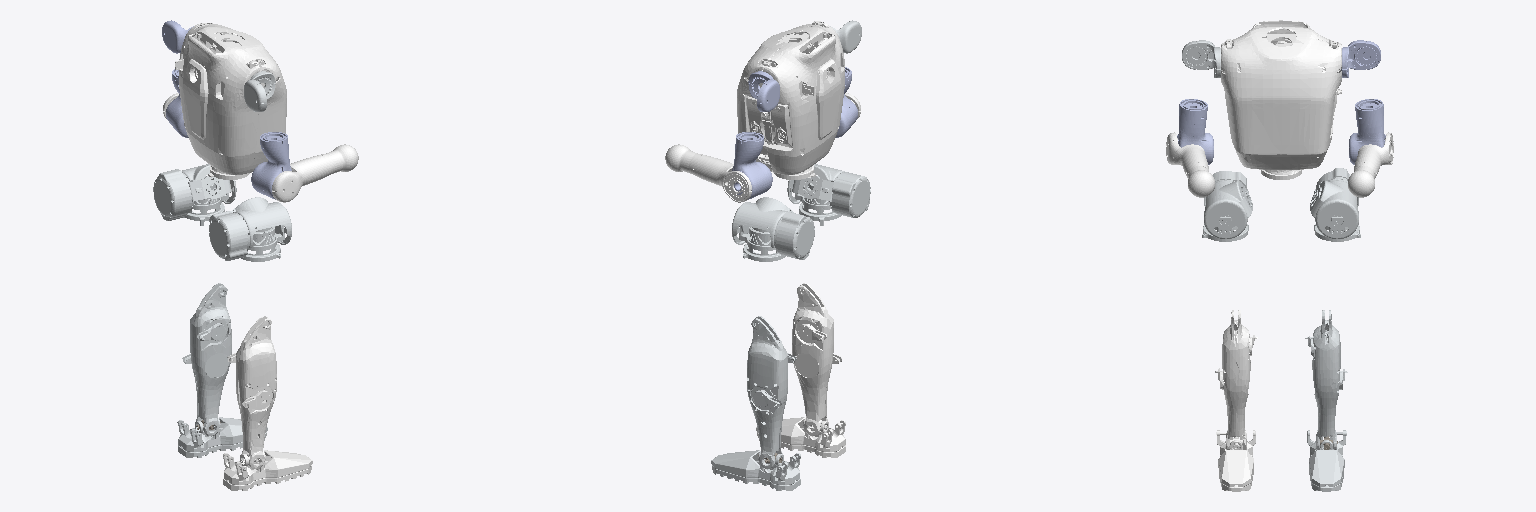
--- Render facts (derived) ---
The picture shows the robot from 3 angles, left to right: view 1: azimuth 30°, elevation 25°; view 2: azimuth 150°, elevation 25°; view 3: azimuth 270°, elevation 25°; orthographic projection.
Model miniloong_v3 with 23 links and 22 joints (12 revolute, 10 fixed), rooted at base_link, posed all joints at 0.
Visible links, largest first — view 1: link_waist_yaw, link_left_knee, link_right_knee, link_right_hip_pitch, link_left_hip_pitch, link_right_ankle_roll, link_right_elbow, link_left_ankle_roll, link_right_shoulder_yaw, link_right_shoulder_pitch, link_right_hip_roll, link_left_hip_roll (+2 smaller); view 2: link_waist_yaw, link_right_knee, link_left_knee, link_left_hip_pitch, link_right_hip_pitch, link_left_ankle_roll, link_left_elbow, link_right_ankle_roll, link_left_shoulder_yaw, link_left_hip_roll, link_left_shoulder_pitch, link_right_hip_roll (+2 smaller); view 3: link_waist_yaw, link_left_knee, link_right_knee, link_left_hip_pitch, link_right_hip_pitch, link_right_elbow, link_left_ankle_roll, link_right_ankle_roll, link_left_elbow, link_left_shoulder_yaw, link_right_shoulder_yaw, link_left_shoulder_pitch (+1 smaller).
Link boxes in pixels (bbox=[...]): link_waist_yaw: bbox=[175, 23, 286, 179]; link_left_knee: bbox=[177, 283, 231, 435]; link_right_knee: bbox=[227, 316, 276, 470]; link_right_hip_pitch: bbox=[209, 197, 291, 260]; link_left_hip_pitch: bbox=[153, 164, 236, 220]; link_right_ankle_roll: bbox=[223, 450, 312, 490]; link_right_elbow: bbox=[272, 144, 358, 202]; link_left_ankle_roll: bbox=[178, 417, 267, 457]; link_right_shoulder_yaw: bbox=[251, 132, 291, 199]; link_right_shoulder_pitch: bbox=[244, 71, 275, 111]; link_right_hip_roll: bbox=[241, 225, 284, 261]; link_left_hip_roll: bbox=[185, 176, 228, 225]; link_waist_yaw: bbox=[737, 21, 844, 179]; link_right_knee: bbox=[792, 283, 842, 435]; link_left_knee: bbox=[747, 316, 796, 471]; link_left_hip_pitch: bbox=[732, 197, 814, 259]; link_right_hip_pitch: bbox=[787, 164, 870, 217]; link_left_ankle_roll: bbox=[711, 450, 800, 490]; link_left_elbow: bbox=[665, 144, 751, 202]; link_right_ankle_roll: bbox=[756, 417, 845, 457]; link_left_shoulder_yaw: bbox=[732, 132, 772, 199]; link_left_hip_roll: bbox=[739, 225, 785, 261]; link_left_shoulder_pitch: bbox=[748, 71, 779, 111]; link_right_hip_roll: bbox=[795, 176, 841, 225]; link_waist_yaw: bbox=[1221, 20, 1341, 179]; link_left_knee: bbox=[1305, 310, 1347, 449]; link_right_knee: bbox=[1215, 310, 1257, 449]; link_left_hip_pitch: bbox=[1310, 168, 1358, 238]; link_right_hip_pitch: bbox=[1204, 171, 1252, 238]; link_right_elbow: bbox=[1166, 132, 1214, 197]; link_left_ankle_roll: bbox=[1307, 430, 1345, 491]; link_right_ankle_roll: bbox=[1217, 430, 1255, 491]; link_left_elbow: bbox=[1348, 132, 1393, 197]; link_left_shoulder_yaw: bbox=[1349, 99, 1385, 164]; link_right_shoulder_yaw: bbox=[1177, 99, 1213, 164]; link_left_shoulder_pitch: bbox=[1341, 40, 1380, 77].
Bounding box of the posed robot: 0.3689 × 0.5743 × 1.2 m (x, y, z).
17 mesh visuals loaded from 23 distinct referenced files (17 binary STL); not drawn: 6 (reference not matched to a file when rendering).

robot.urdf — miniloong_v3:
<?xml version="1.0" encoding="utf-8"?>
<!--
This URDF was automatically created by SolidWorks to URDF Exporter! Originally created by Stephen Brawner ([email redacted])
Commit Version: 1.6.0-4-g7f85cfe  Build Version: 1.6.7995.38578
For more information, please see http://wiki.ros.org/sw_urdf_exporter
-->
<robot name="miniloong_v3">
	<mujoco>
		<compiler meshdir="../meshes/" balanceinertia="true" discardvisual="false" />
	</mujoco>
	<link name="base_link">
		<inertial>
			<origin xyz="0  0 -0.003897 " rpy="0 0 0" />
			<mass value="3.7352" />
			<inertia ixx="0.01328" ixy="0" ixz="0" iyy="0.00566" iyz="0" izz="0.01284" />
		</inertial>
		<visual>
			<origin xyz="0 0 0" rpy="0 0 0" />
			<geometry>
				<mesh filename="../meshes/base_link.STL" />
			</geometry>
			<material name="">
				<color rgba="0.89804 0.91765 0.92941 1" />
			</material>
		</visual>
		<collision>
			<origin xyz="0 0 0" rpy="0 0 0" />
			<geometry>
				<mesh filename="../meshes/base_link.STL" />
			</geometry>
		</collision>
	</link>

	<link name="link_left_hip_pitch">
		<!-- <inertial>
			<origin xyz="-0.063459 0.05644 0.0018258" rpy="0 0 0" />
			<mass value="1.2698" />
			<inertia ixx="0.00247" ixy="-0.00063" ixz="1.6253E-05" iyy="0.00406" iyz="2.8174E-05" izz="0.00433" />
		</inertial> -->
		<inertial>
			<origin xyz="-0.063459095964242 0.0564455458564315 0.00195361727230395" rpy="0 0 0" />
			<mass value="1.2698" />
			<inertia ixx="0.00247" ixy="-0.0" ixz="-0" iyy="0.00406" iyz="-0" izz="0.00433" />
		</inertial>
		<visual>
			<origin xyz="0 0 0" rpy="0 0 0" />
			<geometry>
				<mesh filename="../meshes/link_left_hip_pitch.STL" />
			</geometry>
			<material name="">
				<color rgba="0.89804 0.91765 0.92941 1" />
			</material>
		</visual>
		<!--
		<collision>
		<origin
		xyz="0 0 0"
		rpy="0 0 0" />
		<geometry>
		<mesh
		filename="../meshes/link_left_hip_pitch.STL" />
		</geometry>
		</collision>
		-->
	</link>
	<joint name="joint_left_hip_pitch" type="revolute">
		<origin xyz="0 0.082786 -0.019652" rpy="-0.43633 0 0" />
		<parent link="base_link" />
		<child link="link_left_hip_pitch" />
		<axis xyz="0 -1 0" />
		<limit lower="-0.8" upper="1.57" effort="300" velocity="14" />
	</joint>

	<link name="link_left_hip_roll">
		<inertial>
			<origin xyz="2.5207E-05 -7.5884E-05 -0.019644" rpy="0 0 0" />
			<mass value="1.006" />
			<inertia ixx="0.00109" ixy="8.1111E-06" ixz="-0.00005" iyy="0.00157" iyz="1.9953E-06" izz="0.00171" />
		</inertial>
		<visual>
			<origin xyz="0 0 0" rpy="0 0 0" />
			<geometry>
				<mesh filename="../meshes/link_left_hip_roll.STL" />
			</geometry>
			<material name="">
				<color rgba="0.89804 0.91765 0.92941 1" />
			</material>
		</visual>
		<!--
		<collision>
		<origin
		xyz="0 0 0"
		rpy="0 0 0" />
		<geometry>
		<mesh
		filename="../meshes/link_left_hip_roll.STL" />
		</geometry>
		</collision>
		-->
	</link>
	<joint name="joint_left_hip_roll" type="revolute">
		<origin xyz="0 0.0639999999999994 0" rpy="0.436332312998587 0 0" />
		<parent link="link_left_hip_pitch" />
		<child link="link_left_hip_roll" />
		<axis xyz="1 0 0" />
		<limit lower="-0.4" upper="1" effort="100" velocity="14" />
	</joint>

	<link name="link_left_hip_yaw">
		<!-- <inertial>
			<origin xyz="0.0035034 0.0045942 -0.096361" rpy="0 0 0" />
			<mass value="3.7201" />
			<inertia ixx="0.01809" ixy="-0.00034" ixz="-0.00079" iyy="0.01648" iyz="0.00141" izz="0.00797" />
		</inertial> -->
		<inertial>
			<origin xyz="0.00544218874165746 -0.0120428323432726 -0.100965058647404" rpy="0 0 0" />
			<mass value="3.7201" />
			<inertia ixx="0.01809" ixy="-0." ixz="-0." iyy="0.01648" iyz="-0." izz="0.00797" />
		</inertial>
		<visual>
			<origin xyz="0 0 0" rpy="0 0 0" />
			<geometry>
				<mesh filename="../meshes/link_left_hip_yaw.STL" />
			</geometry>
			<material name="">
				<color rgba="0.89804 0.91765 0.92941 1" />
			</material>
		</visual>
		<!--
		<collision>
		<origin
		xyz="0 0 0"
		rpy="0 0 0" />
		<geometry>
		<mesh
		filename="../meshes/link_left_hip_yaw.STL" />
		</geometry>
		</collision>
		-->
	</link>
	<joint name="joint_left_hip_yaw" type="revolute">
		<origin xyz="0 0 -0.0660749309390388" rpy="0 0 0" />
		<parent link="link_left_hip_roll" />
		<child link="link_left_hip_yaw" />
		<axis xyz="0 0 1" />
		<limit lower="-0.8" upper="0.8" effort="40" velocity="14" />
	</joint>

	<link name="link_left_knee">
		<!-- <inertial>
			<origin xyz="0.0085121 0.00056149 -0.1332" rpy="0 0 0" />
			<mass value="2.3671" />
			<inertia ixx="0.01703" ixy="-0.00003" ixz="0.00066" iyy="0.01776" iyz="-0.00045" izz="0.00258" />
		</inertial> -->
		<inertial>
			<origin xyz="0.00711267961483015 0.00109575254108783 -0.148530745836183" rpy="0 0 0" />
			<mass value="2.3671" />
			<inertia ixx="0.01703" ixy="0." ixz="0." iyy="0.01776" iyz="0." izz="0.00258" />
		</inertial>
		<visual>
			<origin xyz="0 0 0" rpy="0 0 0" />
			<geometry>
				<mesh filename="../meshes/link_left_knee.STL" />
			</geometry>
			<material name="">
				<color rgba="0.89804 0.91765 0.92941 1" />
			</material>
		</visual>
		<collision>
			<origin xyz="0 0 -0.16" rpy="0 0 0" />
			<geometry>
				<cylinder length="0.16" radius="0.01" />
			</geometry>
		</collision>
		<!--
		<collision>
		<origin xyz="0 0 0" rpy="0 0 0" />
		<geometry>
		<mesh filename="../meshes/link_left_knee.STL" />
		</geometry>
		</collision>
		-->
	</link>
	<joint name="joint_left_knee" type="revolute">
		<origin xyz="0 -0.0268000000001518 -0.243925069060961" rpy="0 0 0" />
		<parent link="link_left_hip_yaw" />
		<child link="link_left_knee" />
		<axis xyz="0 1 0" />
		<limit lower="0" upper="1.57" effort="300" velocity="14" />
	</joint>

	<link name="link_left_ankle_pitch">
		<inertial>
			<origin xyz="0.00203587447051995 1.29063426612674E-15 4.35094322320806E-05" rpy="0 0 0" />
			<mass value="0.0977843344446362" />
			<inertia ixx="8.75851893038556E-06" ixy="5.91285137705479E-22" ixz="-4.06882528974468E-21" iyy="1.9407469675906E-05" iyz="2.40417361374459E-18" izz="2.51305174126902E-05" />
		</inertial>
		<visual>
			<origin xyz="0 0 0" rpy="0 0 0" />
			<geometry>
				<mesh filename="../meshes/link_left_ankle_pitch.STL" />
			</geometry>
			<material name="">
				<color rgba="0.647058823529412 0.619607843137255 0.588235294117647 1" />
			</material>
		</visual>
		<!--
		<collision>
		<origin xyz="0 0 0" rpy="0 0 0" />
		<geometry>
		<mesh filename="../meshes/link_left_ankle_pitch.STL" />
		</geometry>
		</collision>
		-->
	</link>
	<joint name="joint_left_ankle_pitch" type="revolute">
		<origin xyz="0 0 -0.340043509432232" rpy="0 0 0" />
		<parent link="link_left_knee" />
		<child link="link_left_ankle_pitch" />
		<axis xyz="0 -1 0" />
		<limit lower="-0.4" upper="0.8" effort="40" velocity="14" />
	</joint>

	<link name="link_left_ankle_roll">
		<inertial>
			<origin xyz="0.0271427859573022 2.90692022023031E-07 -0.0429985338136245" rpy="0 0 0" />
			<mass value="0.666889699700624" />
			<inertia ixx="0.000416460432173352" ixy="1.00005877275381E-08" ixz="0.000163030116358805" iyy="0.00296567474137203" iyz="8.89561374605871E-09" izz="0.00310782867605619" />
		</inertial>
		<visual>
			<origin xyz="0 0 0" rpy="0 0 0" />
			<geometry>
				<mesh filename="../meshes/link_left_ankle_yaw.STL" />
			</geometry>
			<material name="">
				<color rgba="0.898039215686275 0.917647058823529 0.929411764705882 1" />
			</material>
		</visual>
		<!-- <collision>
			<origin xyz="0 0 0" rpy="0 0 0" />
			<geometry>
				<mesh filename="../meshes/link_left_ankle_yaw.STL" />
			</geometry>
		</collision> -->
     <collision>
            <origin rpy="0.00000000 1.5708 0.00000000" xyz="0.0485000 -0.04000000 -0.06300000"/>
            <geometry>
                <cylinder radius="0.00500000" length="0.22500000"/>
            </geometry>
    </collision>
    <collision>
    <origin rpy="0.00000000 1.5708 0.00000000" xyz="0.0485000 0.04000000 -0.06300000"/>
            <geometry>
                <cylinder radius="0.00500000" length="0.22500000"/>
            </geometry>
    </collision>
	</link>
	<joint name="joint_left_ankle_roll" type="revolute">
		<origin xyz="0 0 0" rpy="0 0 0" />
		<parent link="link_left_ankle_pitch" />
		<child link="link_left_ankle_roll" />
		<axis xyz="1 0 0" />
		<limit lower="-0.3" upper="0.3" effort="40" velocity="14" />
	</joint>

	<link name="link_right_hip_pitch">
		<inertial>
			<origin xyz="-0.063459095964242 -0.0564455458564315 0.00195361727230395" rpy="0 0 0" />
			<mass value="1.2698" />
			<inertia ixx="0.00247" ixy="0." ixz="0" iyy="0.00406" iyz="0" izz="0.00433" />
		</inertial>
		<visual>
			<origin xyz="0 0 0" rpy="0 0 0" />
			<geometry>
				<mesh filename="../meshes/link_right_hip_pitch.STL" />
			</geometry>
			<material name="">
				<color rgba="0.898039215686275 0.917647058823529 0.929411764705882 1" />
			</material>
		</visual>
		<!--
		<collision>
		<origin xyz="0 0 0" rpy="0 0 0" />
		<geometry>
		<mesh filename="../meshes/link_right_hip_pitch.STL" />
		</geometry>
		</collision>
		-->
	</link>
	<joint name="joint_right_hip_pitch" type="revolute">
		<origin xyz="0 -0.0827856718722042 -0.0196517491709428" rpy="0.436332312998587 0 0" />
		<parent link="base_link" />
		<child link="link_right_hip_pitch" />
		<axis xyz="0 -1 0" />
		<limit lower="-0.8" upper="1.57" effort="300" velocity="14" />
	</joint>

	<link name="link_right_hip_roll">
		<inertial>
			<origin xyz="1.55235431310107E-05 0.00013396851772296 -0.0196436549832978" rpy="0 0 0" />
			<mass value="1.006" />
			<inertia ixx="0.00109" ixy="-8.1111E-06" ixz="-0.00005" iyy="0.00157" iyz="-1.9953E-06" izz="0.00171" />
		</inertial>
		<visual>
			<origin xyz="0 0 0" rpy="0 0 0" />
			<geometry>
				<mesh filename="../meshes/link_right_hip_roll.STL" />
			</geometry>
			<material name="">
				<color rgba="0.898039215686275 0.917647058823529 0.929411764705882 1" />
			</material>
		</visual>
		<!--
		<collision>
		<origin xyz="0 0 0" rpy="0 0 0" />
		<geometry>
		<mesh filename="../meshes/link_right_hip_roll.STL" />
		</geometry>
		</collision>
		-->
	</link>
	<joint name="joint_right_hip_roll" type="revolute">
		<origin xyz="0 -0.0639999999999994 0" rpy="-0.436332312998587 0 0" />
		<parent link="link_right_hip_pitch" />
		<child link="link_right_hip_roll" />
		<axis xyz="-1 0 0" />
		<limit lower="-0.4" upper="1" effort="100" velocity="14" />
	</joint>

	<link name="link_right_hip_yaw">
		<inertial>
			<origin xyz="0.00544218874165746 0.0120428323432726 -0.100965058647404" rpy="0 0 0" />
			<mass value="3.7201" />
			<inertia ixx="0.01809" ixy="0." ixz="-0." iyy="0.01648" iyz="-0." izz="0.00797" />
		</inertial>
		
		<visual>
			<origin xyz="0 0 0" rpy="0 0 0" />
			<geometry>
				<mesh filename="../meshes/link_right_hip_yaw.STL" />
			</geometry>
			<material name="">
				<color rgba="1 1 1 1" />
			</material>
		</visual>
		<!--
		<collision>
		<origin xyz="0 0 0" rpy="0 0 0" />
		<geometry>
		<mesh filename="../meshes/link_right_hip_yaw.STL" />
		</geometry>
		</collision>
		-->
	</link>
	<joint name="joint_right_hip_yaw" type="revolute">
		<origin xyz="0 0 -0.0660749309390388" rpy="0 0 0" />
		<parent link="link_right_hip_roll" />
		<child link="link_right_hip_yaw" />
		<axis xyz="0 0 -1" />
		<limit lower="-0.8" upper="0.8" effort="40" velocity="14" />
	</joint>

	<link name="link_right_knee">
		<inertial>
			<origin xyz="0.00711267961483015 -0.00109575254108783 -0.148530745836183" rpy="0 0 0" />
			<mass value="2.3671" />
			<inertia ixx="0.01703" ixy="0." ixz="0." iyy="0.01776" iyz="0." izz="0.00258" />
		</inertial>
		<visual>
			<origin xyz="0 0 0" rpy="0 0 0" />
			<geometry>
				<mesh filename="../meshes/link_right_knee.STL" />
			</geometry>
			<material name="">
				<color rgba="1 1 1 1" />
			</material>
		</visual>
		<collision>
			<origin xyz="0 0 -0.16" rpy="0 0 0" />
			<geometry>
				<cylinder length="0.16" radius="0.01" />
			</geometry>
		</collision>
		<!--
		<collision>
		<origin xyz="0 0 0" rpy="0 0 0" />
		<geometry>
		<mesh filename="../meshes/link_right_knee.STL" />
		</geometry>
		</collision>
		-->
	</link>
	<joint name="joint_right_knee" type="revolute">
		<origin xyz="0 0.0268 -0.24393" rpy="0 0 0" />
		<parent link="link_right_hip_yaw" />
		<child link="link_right_knee" />
		<axis xyz="0 1 0" />
		<limit lower="0" upper="1.57" effort="300" velocity="14" />
	</joint>

	<link name="link_right_ankle_pitch">
		<inertial>
			<origin xyz="0.00203587447051994 -1.52530765795689E-13 4.35094322317475E-05" rpy="0 0 0" />
			<mass value="0.0977843344446362" />
			<inertia ixx="8.75851893038558E-06" ixy="5.04324897607228E-22" ixz="-4.44418073944059E-21" iyy="1.9407469675906E-05" iyz="8.65532772897695E-20" izz="2.51305174126902E-05" />
		</inertial>
		<visual>
			<origin xyz="0 0 0" rpy="0 0 0" />
			<geometry>
				<mesh filename="../meshes/link_right_ankle_pitch.STL" />
			</geometry>
			<material name="">
				<color rgba="1 1 1 1" />
			</material>
		</visual>
		<!--
		<collision>
		<origin xyz="0 0 0" rpy="0 0 0" />
		<geometry>
		<mesh filename="../meshes/link_right_ankle_pitch.STL" />
		</geometry>
		</collision>
		-->
	</link>
	<joint name="joint_right_ankle_pitch" type="revolute">
		<origin xyz="0 0 -0.340043509432231" rpy="0 0 0" />
		<parent link="link_right_knee" />
		<child link="link_right_ankle_pitch" />
		<axis xyz="0 -1 0" />
		<limit lower="-0.4" upper="0.8" effort="40" velocity="14" />
	</joint>

	<link name="link_right_ankle_roll">
		<inertial>
			<origin xyz="0.027143 -3.4145E-07 -0.042999" rpy="0 0 0" />
			<mass value="0.66689" />
			<inertia ixx="0.00041646" ixy="-1.1859E-08" ixz="0.00016303" iyy="0.0029657" iyz="-8.2657E-09" izz="0.0031078" />
		</inertial>
		<visual>
			<origin xyz="0 0 0" rpy="0 0 0" />
			<geometry>
				<mesh filename="../meshes/link_right_ankle_roll.STL" />
			</geometry>
			<material name="">
				<color rgba="1 1 1 1" />
			</material>
		</visual>
		<!-- <collision>
			<origin xyz="0 0 0" rpy="0 0 0" />
			<geometry>
				<mesh filename="../meshes/link_right_ankle_roll.STL" />
			</geometry>
		</collision> -->
		     <collision>
            <origin rpy="0.00000000 1.5708 0.00000000" xyz="0.0485000 -0.04000000 -0.06300000"/>
            <geometry>
                <cylinder radius="0.00500000" length="0.22500000"/>
            </geometry>
    </collision>
    <collision>
    <origin rpy="0.00000000 1.5708 0.00000000" xyz="0.0485000 0.04000000 -0.06300000"/>
            <geometry>
                <cylinder radius="0.00500000" length="0.22500000"/>
            </geometry>
    </collision>
	</link>
	<joint name="joint_right_ankle_roll" type="revolute">
		<origin xyz="0 0 0" rpy="0 0 0" />
		<parent link="link_right_ankle_pitch" />
		<child link="link_right_ankle_roll" />
		<axis xyz="-1 0 0" />
		<limit lower="-0.3" upper="0.3" effort="40" velocity="14" />
	</joint>

	<link name="link_waist_yaw">
		<inertial>
			<origin xyz="-0.004272 -0.0 0.1884" rpy="0 0 0" />
			<mass value="13.91387" />
			<inertia ixx="0.18344" ixy="0.000119" ixz="-0.0" iyy="0.12487" iyz="0.0" izz="0.10059" />
		</inertial>
		<visual>
			<origin xyz="0 0 0" rpy="0 0 0" />
			<geometry>
				<mesh filename="../meshes/link_waist_yaw.STL" />
			</geometry>
			<material name="">
				<color rgba="1 1 1 1" />
			</material>
		</visual>
		<!--
		<collision>
		<origin xyz="0 0 0" rpy="0 0 0" />
		<geometry>
		<mesh filename="../meshes/link_waist_yaw.STL" />
		</geometry>
		</collision>
		-->
	</link>
	<joint name="joint_waist_yaw" type="fixed">
		<origin xyz="0 0 0.0565" rpy="0 0 0" />
		<parent link="base_link" />
		<child link="link_waist_yaw" />
		<axis xyz="0 0 1" />
		<limit lower="-2.5" upper="2.5" effort="40" velocity="14" />
	</joint>

	<link name="link_head_yaw">
		<inertial>
			<origin xyz="0.0061983 -0.00018871 0.10871" rpy="0 0 0" />
			<mass value="2.27240 " />
			<inertia ixx="0.00816" ixy="3.4898E-06" ixz="0.00063" iyy="0.00837" iyz="0.00002" izz="0.00534" />
		</inertial>
		<visual>
			<origin xyz="0 0 0" rpy="0 0 0" />
			<geometry>
				<mesh filename="../meshes/link_head_yaw.STL" />
			</geometry>
			<material name="">
				<color rgba="0.75294 0.75294 0.75294 1" />
			</material>
		</visual>
		<!--
		<collision>
		<origin xyz="0 0 0" rpy="0 0 0" />
		<geometry>
		<mesh filename="../meshes/link_head_yaw.STL" />
		</geometry>
		</collision>
		-->
	</link>
	<joint name="joint_head_yaw" type="fixed">
		<origin xyz="0 0 0.3615" rpy="0 0 0" />
		<parent link="link_waist_yaw" />
		<child link="link_head_yaw" />
		<axis xyz="0 0 1" />
		<limit lower="-2.5" upper="2.5" effort="40" velocity="14" />
	</joint>

	<link name="link_left_shoulder_pitch">
		<inertial>
			<origin xyz="-0.0210939607616073 0.0241260676418119 8.25829308818693E-05" rpy="0 0 0" />
			<mass value="0.27482 " />
			<inertia ixx="0.00035" ixy="0.00013" ixz="2.34594217783331E-07" iyy="0.00033" iyz="-2.62935448501759E-07" izz="0.00040" />
		</inertial>
		<visual>
			<origin xyz="0 0 0" rpy="0 0 0" />
			<geometry>
				<mesh filename="../meshes/link_left_shoulder_pitch.STL" />
			</geometry>
			<material name="">
				<color rgba="0.792156862745098 0.819607843137255 0.933333333333333 1" />
			</material>
		</visual>
		<!--
		<collision>
		<origin xyz="0 0 0" rpy="0 0 0" />
		<geometry>
		<mesh filename="../meshes/link_left_shoulder_pitch.STL" />
		</geometry>
		</collision>
		-->
	</link>
	<joint name="joint_left_shoulder_pitch" type="fixed">
		<origin xyz="0 0.155499975207358 0.3025" rpy="0 0 0" />
		<parent link="link_waist_yaw" />
		<child link="link_left_shoulder_pitch" />
		<axis xyz="0 -1 0" />
		<limit lower="-3.14" upper="3.14" effort="10" velocity="14" />
	</joint>

	<link name="link_left_shoulder_roll">
		<inertial>
			<origin xyz="0.000167218328205393 0.0354818809463666 -6.43762885221832E-08" rpy="0 0 0" />
			<mass value="1.39489614213911" />
			<inertia ixx="0.00358" ixy="-3.39247919468301E-05" ixz="4.74084829888112E-09" iyy="0.00087" iyz="1.03984594164589E-09" izz="0.00347" />
		</inertial>
		<visual>
			<origin xyz="0 0 0" rpy="0 0 0" />
			<geometry>
				<mesh filename="../meshes/link_left_shoulder_roll.STL" />
			</geometry>
			<material name="">
				<color rgba="0.792156862745098 0.819607843137255 0.933333333333333 1" />
			</material>
		</visual>
		<!--
		<collision>
		<origin xyz="0 0 0" rpy="0 0 0" />
		<geometry>
		<mesh filename="../meshes/link_left_shoulder_roll.STL" />
		</geometry>
		</collision>
		-->
	</link>
	<joint name="joint_left_shoulder_roll" type="fixed">
		<origin xyz="0 0.0595000000000024 0" rpy="-1.5 0 0" />
		<parent link="link_left_shoulder_pitch" />
		<child link="link_left_shoulder_roll" />
		<axis xyz="1 0 0" />
		<limit lower="-3.14" upper="3.14" effort="10" velocity="14" />
	</joint>

	<link name="link_left_shoulder_yaw">
		<inertial>
			<origin xyz="7.16030292427931E-05 0.100209157986346 0.000676367053530913" rpy="0 0 0" />
			<mass value="1.00308" />
			<inertia ixx="0.00212" ixy="0.00003" ixz="6.15303434676375E-06" iyy="0.00067" iyz="-0.00002" izz="0.00203" />
		</inertial>
		<visual>
			<origin xyz="0 0 0" rpy="0 0 0" />
			<geometry>
				<mesh filename="../meshes/link_left_shoulder_yaw.STL" />
			</geometry>
			<material name="">
				<color rgba="0.792156862745098 0.819607843137255 0.933333333333333 1" />
			</material>
		</visual>
		<!--
		<collision>
		<origin xyz="0 0 0" rpy="0 0 0" />
		<geometry>
		<mesh filename="../meshes/link_left_shoulder_yaw.STL" />
		</geometry>
		</collision>
		-->
	</link>
	<joint name="joint_left_shoulder_yaw" type="fixed">
		<origin xyz="0 0.12337 0" rpy="0 1.7 0" />
		<parent link="link_left_shoulder_roll" />
		<child link="link_left_shoulder_yaw" />
		<axis xyz="0 0 1" />
		<limit lower="-3.14" upper="3.14" effort="10" velocity="14" />
	</joint>

	<link name="link_left_elbow">
		<inertial>
			<origin xyz="-0.00481265435533542 0.128865038823095 4.58706437079237E-05" rpy="0 0 0" />
			<mass value="0.78794" />
			<inertia ixx="0.00473" ixy="0.00069" ixz="6.24928795495613E-07" iyy="0.00070" iyz="-1.09977340809503E-08" izz="0.00487" />
		</inertial>
		<visual>
			<origin xyz="0 0 0" rpy="0 0 0" />
			<geometry>
				<mesh filename="../meshes/link_left_elbow.STL" />
			</geometry>
			<material name="">
				<color rgba="1 1 1 1" />
			</material>
		</visual>
		<!--
		<collision>
		<origin xyz="0 0 0" rpy="0 0 0" />
		<geometry>
		<mesh filename="../meshes/link_left_elbow.STL" />
		</geometry>
		</collision>
		-->
	</link>
	<joint name="joint_left_elbow" type="fixed">
		<origin xyz="0 0.116764648961339 0" rpy="1.6 0 0" />
		<parent link="link_left_shoulder_yaw" />
		<child link="link_left_elbow" />
		<axis xyz="-1 0 0" />
		<limit lower="-3.14" upper="3.14" effort="10" velocity="14" />
	</joint>

	<link name="link_right_shoulder_pitch">
		<inertial>
			<origin xyz="-0.0210974567110592 -0.0241256715710195 8.67611098308019E-05" rpy="0 0 0" />
			<mass value="0.27482" />
			<inertia ixx="0.00035" ixy="0.00013" ixz="2.34594217783331E-07" iyy="0.00033" iyz="-2.62935448501759E-07" izz="0.00040" />
		</inertial>
		<visual>
			<origin xyz="0 0 0" rpy="0 0 0" />
			<geometry>
				<mesh filename="../meshes/link_right_shoulder_pitch.STL" />
			</geometry>
			<material name="">
				<color rgba="0.898039215686275 0.917647058823529 0.929411764705882 1" />
			</material>
		</visual>
		<!--
		<collision>
		<origin xyz="0 0 0" rpy="0 0 0" />
		<geometry>
		<mesh filename="../meshes/link_right_shoulder_pitch.STL" />
		</geometry>
		</collision>
		-->
	</link>
	<joint name="joint_right_shoulder_pitch" type="fixed">
		<origin xyz="0 -0.155499975207358 0.3025" rpy="0 0 0" />
		<parent link="link_waist_yaw" />
		<child link="link_right_shoulder_pitch" />
		<axis xyz="0 -1 0" />
		<limit lower="-3.14" upper="3.14" effort="10" velocity="14" />
	</joint>

	<link name="link_right_shoulder_roll">
		<inertial>
			<origin xyz="-0.000843122215089775 -0.0399406505926827 -7.69838556569091E-07" rpy="0 0 0" />
			<mass value="1.39408" />
			<inertia ixx="0.00358" ixy="3.39293508809712E-05" ixz="8.94066677516295E-09" iyy="0.00087" iyz="1.42676101576193E-08" izz="0.00347" />
		</inertial>
		<visual>
			<origin xyz="0 0 0" rpy="0 0 0" />
			<geometry>
				<mesh filename="../meshes/link_right_shoulder_roll.STL" />
			</geometry>
			<material name="">
				<color rgba="0.792156862745098 0.819607843137255 0.933333333333333 1" />
			</material>
		</visual>
		<!--
		<collision>
		<origin xyz="0 0 0" rpy="0 0 0" />
		<geometry>
		<mesh filename="../meshes/link_right_shoulder_roll.STL" />
		</geometry>
		</collision>
		-->
	</link>
	<joint name="joint_right_shoulder_roll" type="fixed">
		<origin xyz="0 -0.0595 0" rpy="1.5 0 0" />
		<parent link="link_right_shoulder_pitch" />
		<child link="link_right_shoulder_roll" />
		<axis xyz="-1 0 0" />
		<limit lower="-3.14" upper="3.14" effort="10" velocity="14" />
	</joint>

	<link name="link_right_shoulder_yaw">
		<inertial>
			<origin xyz="-0.000476212054678059 -0.0789895136293 0.00154596147273028" rpy="0 0 0" />
			<mass value="1.00308 " />
			<inertia ixx="0.00212" ixy="-0.00003" ixz="6.14232751031705E-06" iyy="0.00067" iyz="0.00002" izz="0.00203" />
		</inertial>
		<visual>
			<origin xyz="0 0 0" rpy="0 0 0" />
			<geometry>
				<mesh filename="../meshes/link_right_shoulder_yaw.STL" />
			</geometry>
			<material name="">
				<color rgba="0.792156862745098 0.819607843137255 0.933333333333333 1" />
			</material>
		</visual>
		<!--
		<collision>
		<origin xyz="0 0 0" rpy="0 0 0" />
		<geometry>
		<mesh filename="../meshes/link_right_shoulder_yaw.STL" />
		</geometry>
		</collision>
		-->
	</link>
	<joint name="joint_right_shoulder_yaw" type="fixed">
		<origin xyz="0 -0.123369566533709 0" rpy="0 1.7 0" />
		<parent link="link_right_shoulder_roll" />
		<child link="link_right_shoulder_yaw" />
		<axis xyz="0 0 -1" />
		<limit lower="-3.14" upper="3.14" effort="10" velocity="14" />
	</joint>

	<link name="link_right_elbow">
		<inertial>
			<origin xyz="-0.00587043983846815 -0.125968993114132 5.03840326848692E-05" rpy="0 0 0" />
			<mass value="0.78794" />
			<inertia ixx="0.00473" ixy="-0.00069" ixz="6.16175967774978E-07" iyy="0.00070" iyz="3.20665803567809E-08" izz="0.00487" />
		</inertial>
		<visual>
			<origin xyz="0 0 0" rpy="0 0 0" />
			<geometry>
				<mesh filename="../meshes/link_right_elbow.STL" />
			</geometry>
			<material name="">
				<color rgba="1 1 1 1" />
			</material>
		</visual>
		<!--
		<collision>
		<origin xyz="0 0 0" rpy="0 0 0" />
		<geometry>
		<mesh filename="../meshes/link_right_elbow.STL" />
		</geometry>
		</collision>
		-->
	</link>
	<joint name="joint_right_elbow" type="fixed">
		<origin xyz="0 -0.116764648961339 0" rpy="-1.6 0 0" />
		<parent link="link_right_shoulder_yaw" />
		<child link="link_right_elbow" />
		<axis xyz="1 0 0" />
		<limit lower="-3.14" upper="3.14" effort="10" velocity="14" />
	</joint>
</robot>
